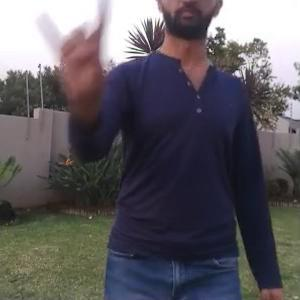takeoff-hand: (32, 0, 116, 106)
